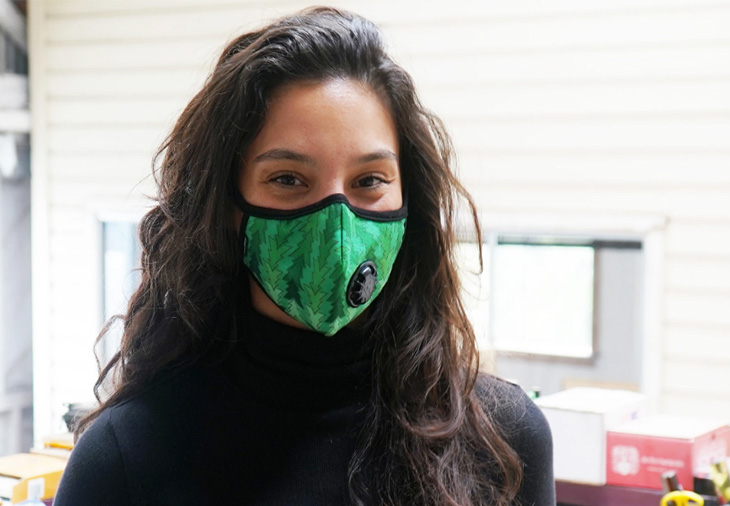with_mask: (173, 23, 464, 362)
